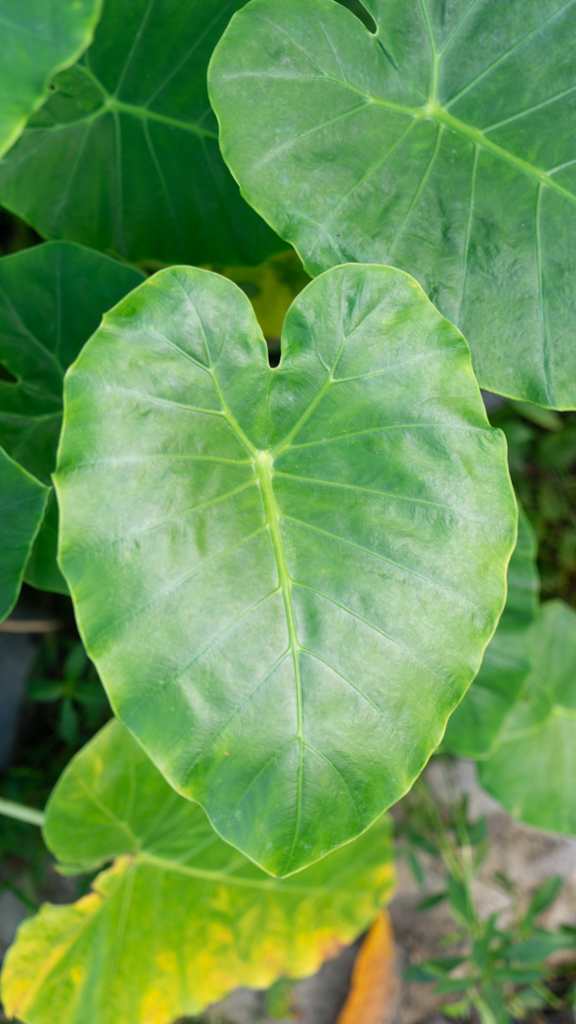Pepper yellow leaf: (9, 861, 418, 946)
